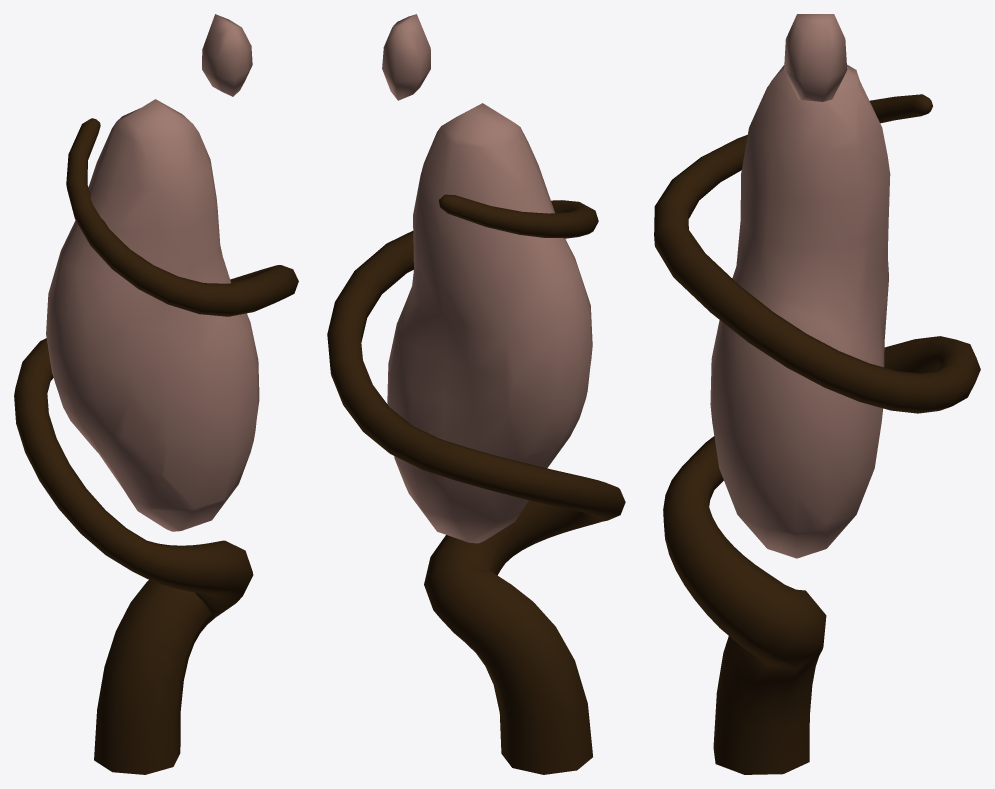
File: tree_lava_1.glb
The picture shows the model from 3 angles, left to right: view 1: azimuth 30°, elevation 25°; view 2: azimuth 150°, elevation 25°; view 3: azimuth 270°, elevation 25°; orthographic projection. The views are drawn at different scales.
Parts seen in each view (by area): view 1: Tree_Lava_1; view 2: Tree_Lava_1; view 3: Tree_Lava_1.
Part boxes in pixels (left/top/right/bottom): Tree_Lava_1: left=14, top=14, right=298, bottom=774; Tree_Lava_1: left=327, top=14, right=625, bottom=774; Tree_Lava_1: left=654, top=14, right=980, bottom=774.
Size of the model in its own units: 1.2 by 3.24 by 1.2.
Materials: 1 (1 with a texture image).
